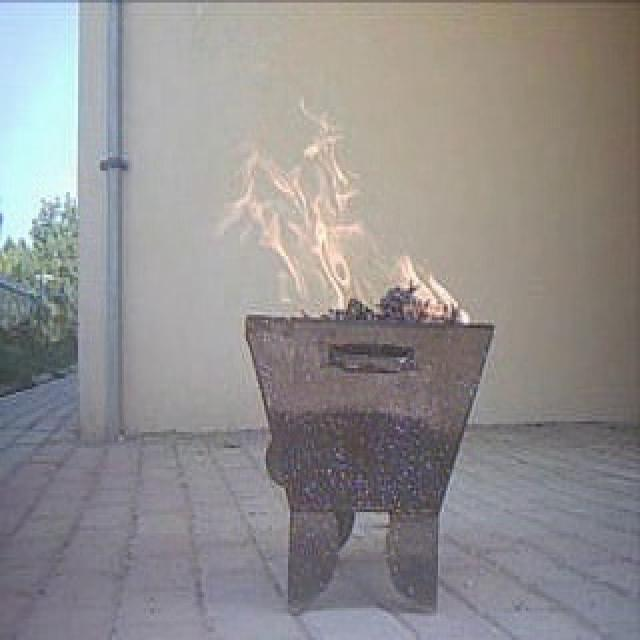fire: (256, 160, 362, 304)
